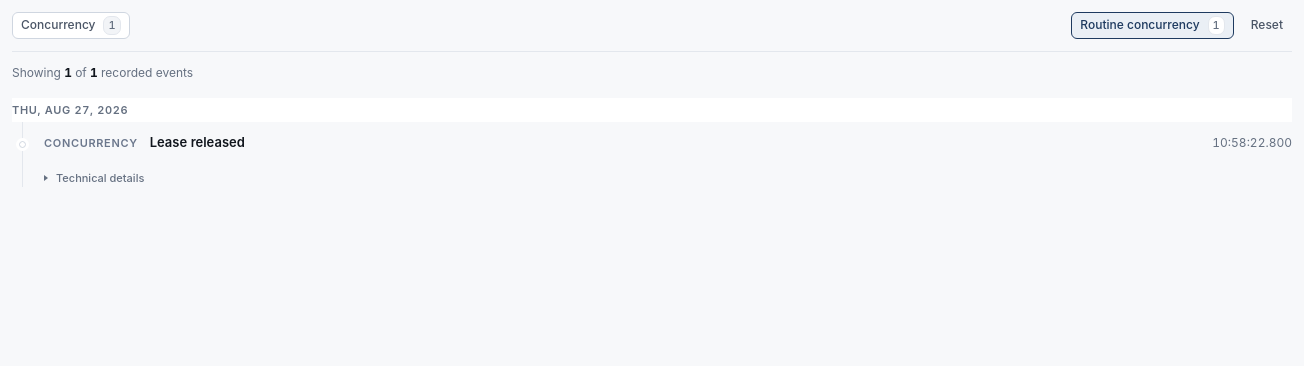
Test: case audit timeline › renders an event with no detail payload and no identifiers
Click the button "Technical details" at (94, 178), box [44,168,144,188]
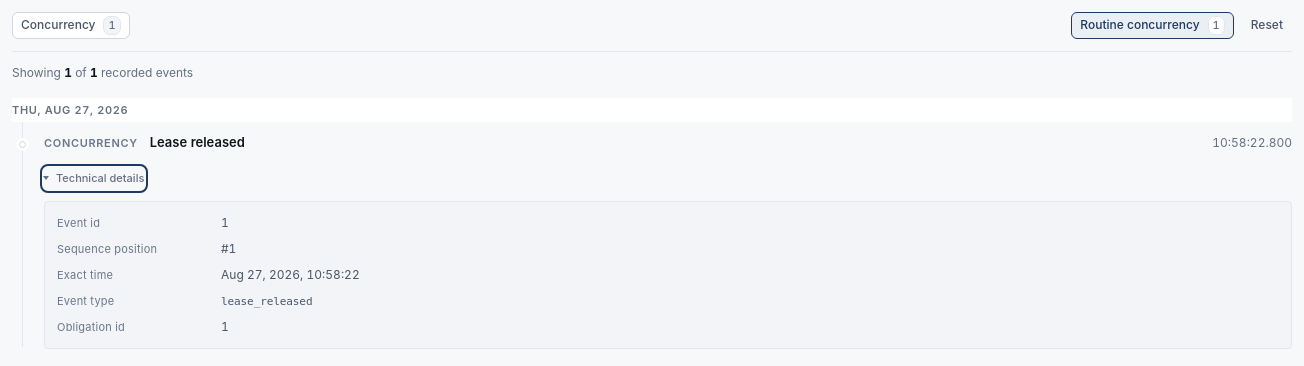
Now the text "Event id" is shown, box [57,216,100,230]
